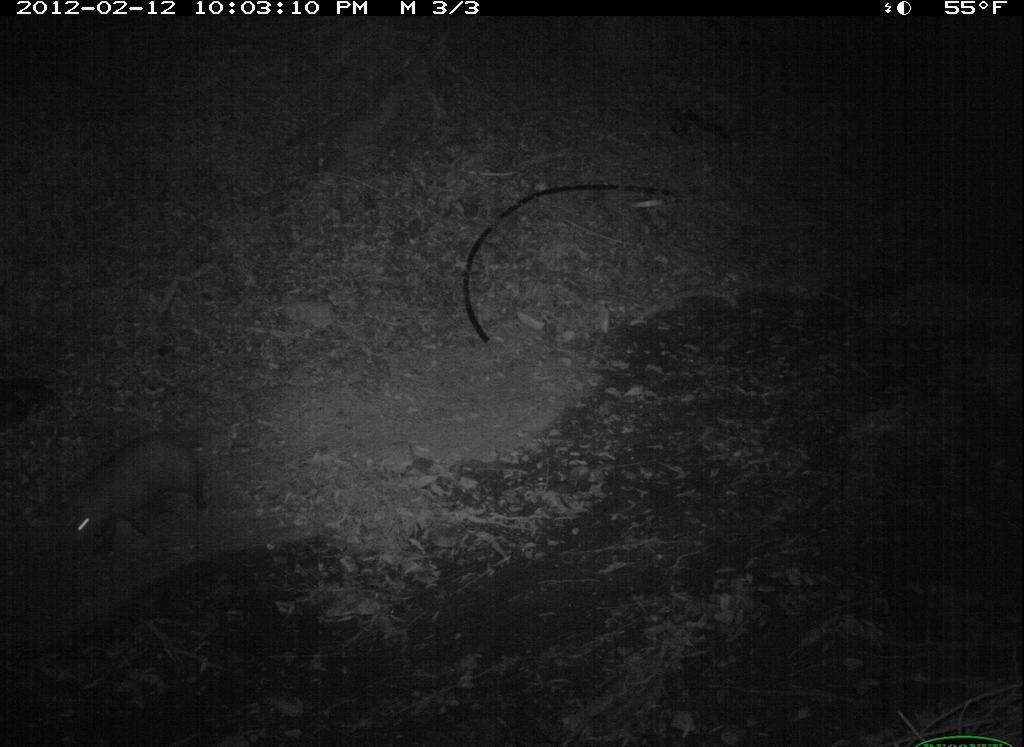opossum: (47, 404, 221, 571)
